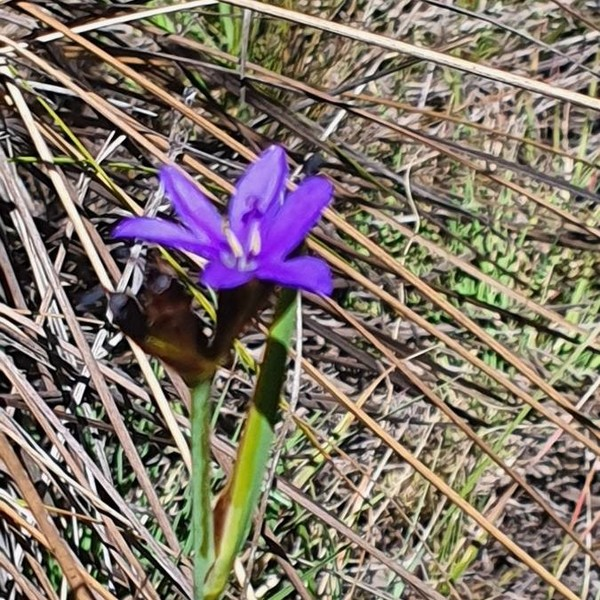obstacle: (119, 161, 331, 547)
